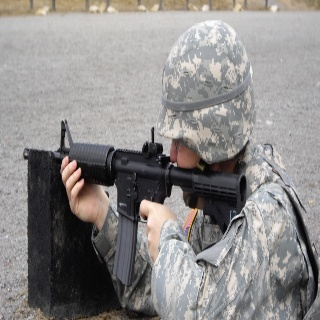rifle: (21, 118, 252, 289)
